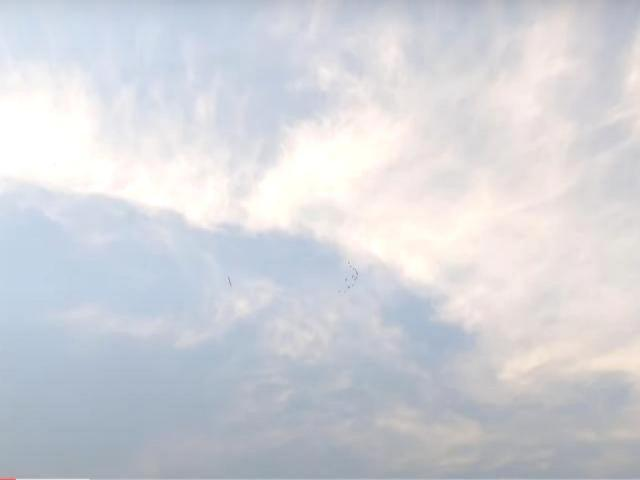iha: (224, 276, 234, 288)
